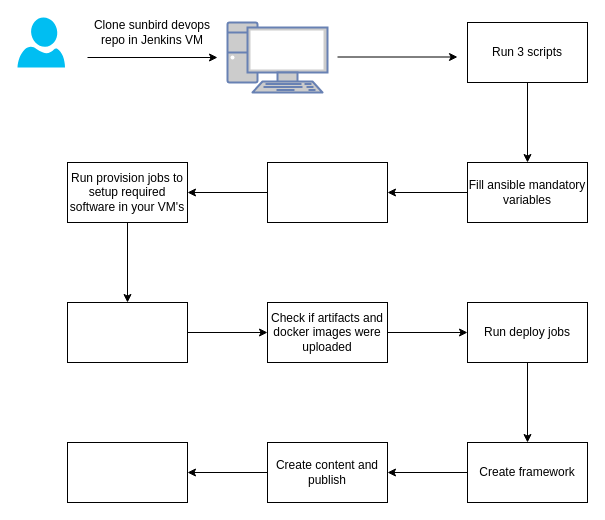
The diagram is 605 pixels wide and 520 high, and some of its shapes have lost their labels. Here are the shapes that lost their labels. From the top down, the centre of each, then its label:
the point at 327,192: Setup private github repo, docker registry, azure blob (if required)
the point at 127,332: Run build jobs
the point at 127,472: SUnbird is ready to use
